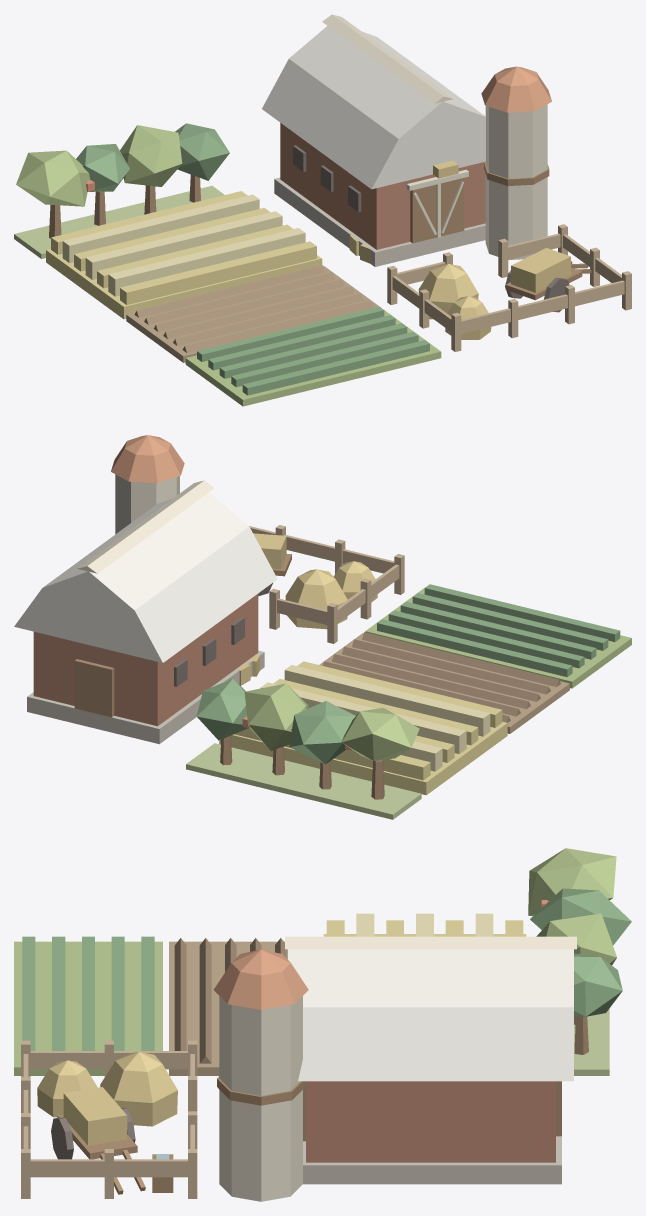
The model's file is farm.glb.
3 views of the same model, one above another, from view 1: azimuth 30°, elevation 25°; view 2: azimuth 150°, elevation 25°; view 3: azimuth 270°, elevation 25° (orthographic). The views are drawn at different scales.
Visible parts, largest first — view 1: farm; view 2: farm; view 3: farm.
Boxes of the visible parts, box(x1,y1,x2,y2) form: farm: box(14, 14, 631, 406); farm: box(14, 435, 631, 819); farm: box(14, 848, 631, 1201).
Bounding box in the file's own units: 0.9924 × 0.4192 × 1.
